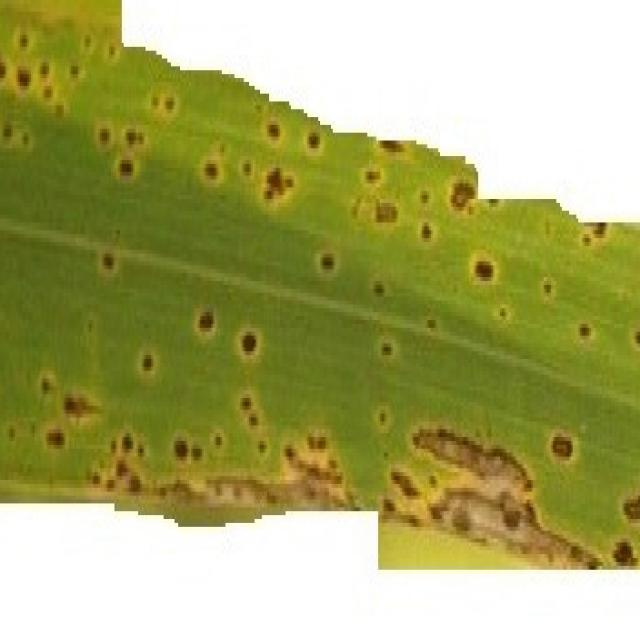brown spot: (56, 378, 110, 429), (233, 303, 270, 373), (543, 418, 584, 481), (238, 388, 271, 462), (256, 159, 297, 214), (192, 142, 230, 200), (25, 356, 62, 414), (6, 50, 42, 108), (441, 170, 480, 223), (308, 235, 344, 290), (132, 332, 165, 390), (104, 456, 146, 501), (464, 241, 501, 292), (365, 190, 403, 237), (108, 142, 143, 192), (88, 239, 124, 287), (604, 519, 640, 566), (368, 326, 402, 374), (0, 101, 24, 164), (192, 300, 224, 344), (618, 468, 640, 531), (418, 299, 447, 346), (572, 219, 612, 253), (301, 115, 328, 165), (369, 394, 396, 443), (256, 103, 286, 146), (119, 115, 151, 154), (413, 211, 440, 257), (59, 51, 89, 90), (488, 295, 517, 335), (164, 427, 194, 465), (35, 76, 61, 119), (92, 111, 115, 159), (364, 264, 389, 308), (16, 114, 38, 164), (572, 310, 598, 352), (208, 415, 230, 464), (413, 175, 438, 216), (536, 267, 558, 311), (159, 82, 181, 126), (11, 22, 34, 64), (233, 147, 259, 184), (0, 35, 15, 98), (357, 161, 387, 191), (187, 432, 210, 471), (102, 30, 122, 72), (82, 459, 104, 496), (118, 422, 139, 460), (625, 312, 640, 363), (34, 47, 54, 82), (77, 18, 96, 54), (53, 94, 70, 133), (147, 79, 162, 120)
